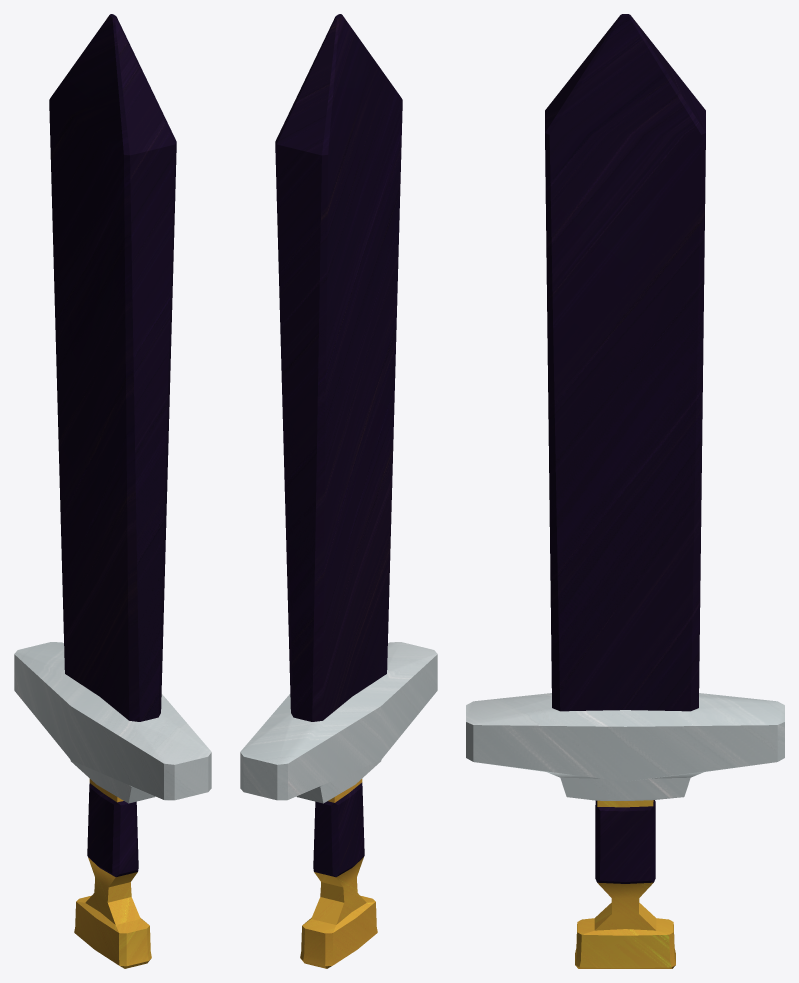
The model's file is SwordSSS.fbx.
The picture shows the model from 3 angles, left to right: view 1: azimuth 30°, elevation 25°; view 2: azimuth 150°, elevation 25°; view 3: azimuth 270°, elevation 25°; orthographic projection.
Visible parts, largest first — view 1: sword SSS; view 2: sword SSS; view 3: sword SSS.
Boxes of the visible parts, bbox=[...] form: sword SSS: bbox=[14, 14, 211, 968]; sword SSS: bbox=[240, 14, 437, 968]; sword SSS: bbox=[466, 14, 784, 968].
Size of the model in its own units: 0.1632 by 1.73 by 0.5277.
